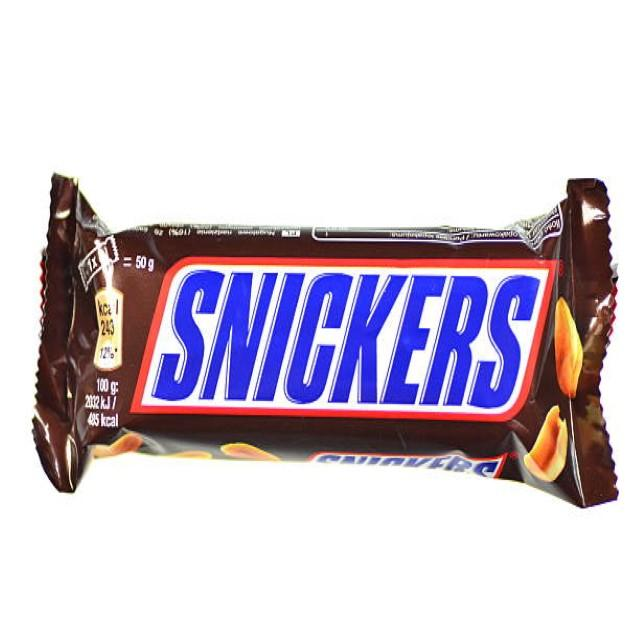snickers_chocolate: (63, 195, 617, 528)
